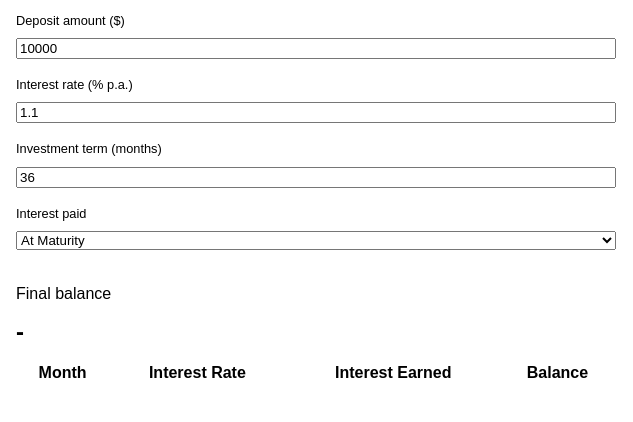
TermDepositCalculator › investment term field › shows error message investment term is empty
Clear the number field labelled "Investment term (months)" at (316, 177), box [16, 167, 616, 188]
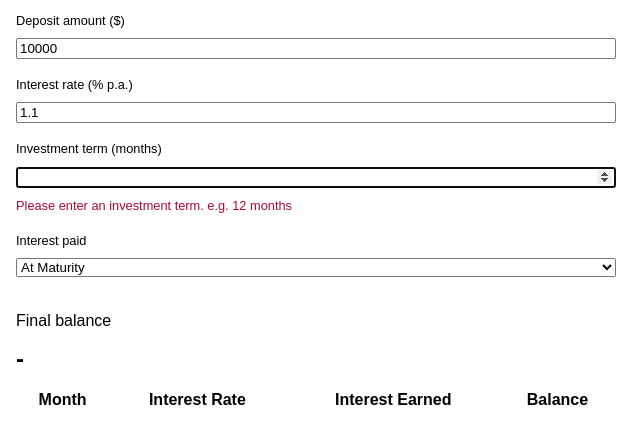
Now the text "Please enter an investment term. e.g. 12 months" is shown, box [16, 198, 292, 213]
